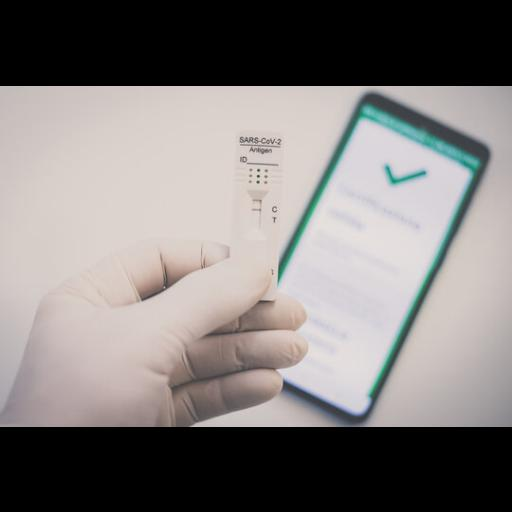Neg: (231, 132, 281, 298)
